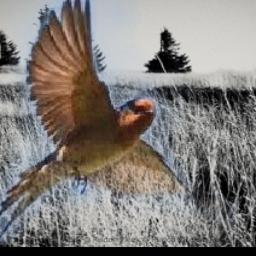Swallow: (0, 0, 238, 245)
